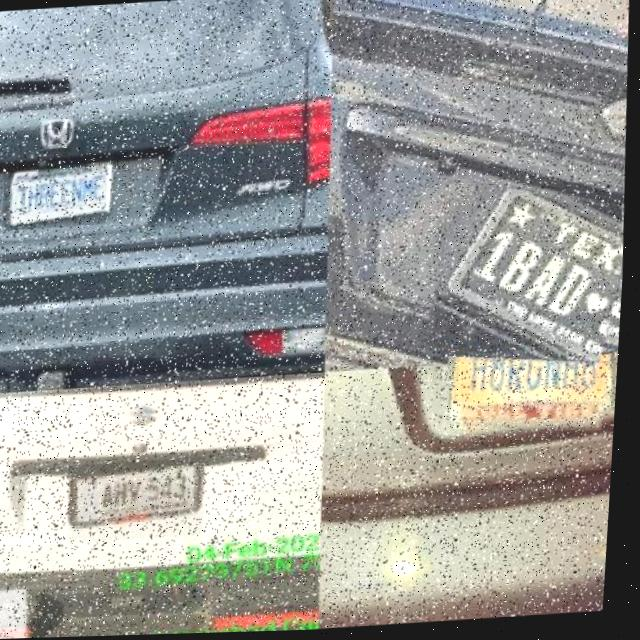LicensePlate: (439, 190, 625, 373), (71, 458, 213, 544), (447, 358, 614, 428), (5, 165, 109, 230)
